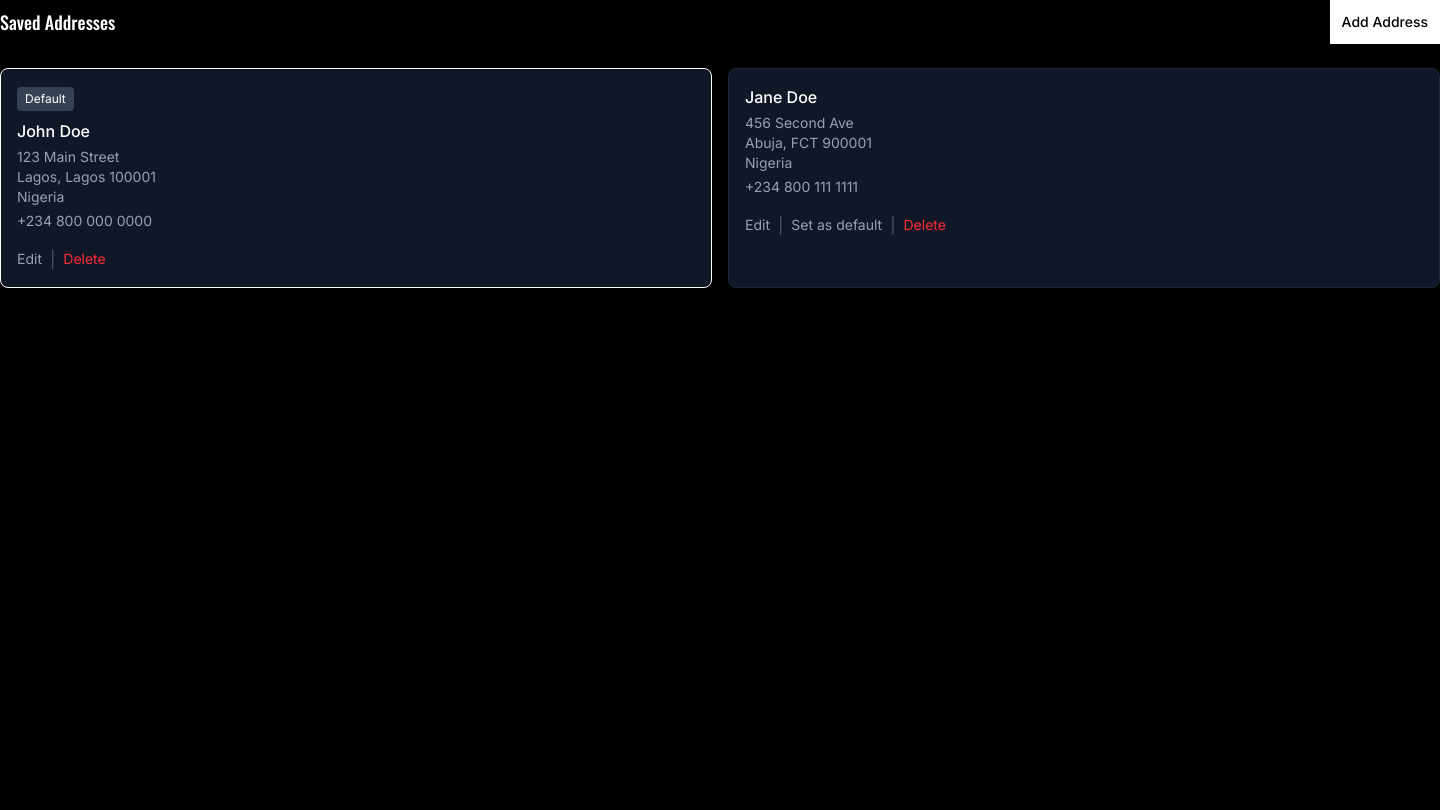
Test: AddressBook › opens edit modal when clicking Edit button
Click the button "Edit" below "+234 800 000 0000".
click(30, 259)  # box [17, 247, 42, 271]
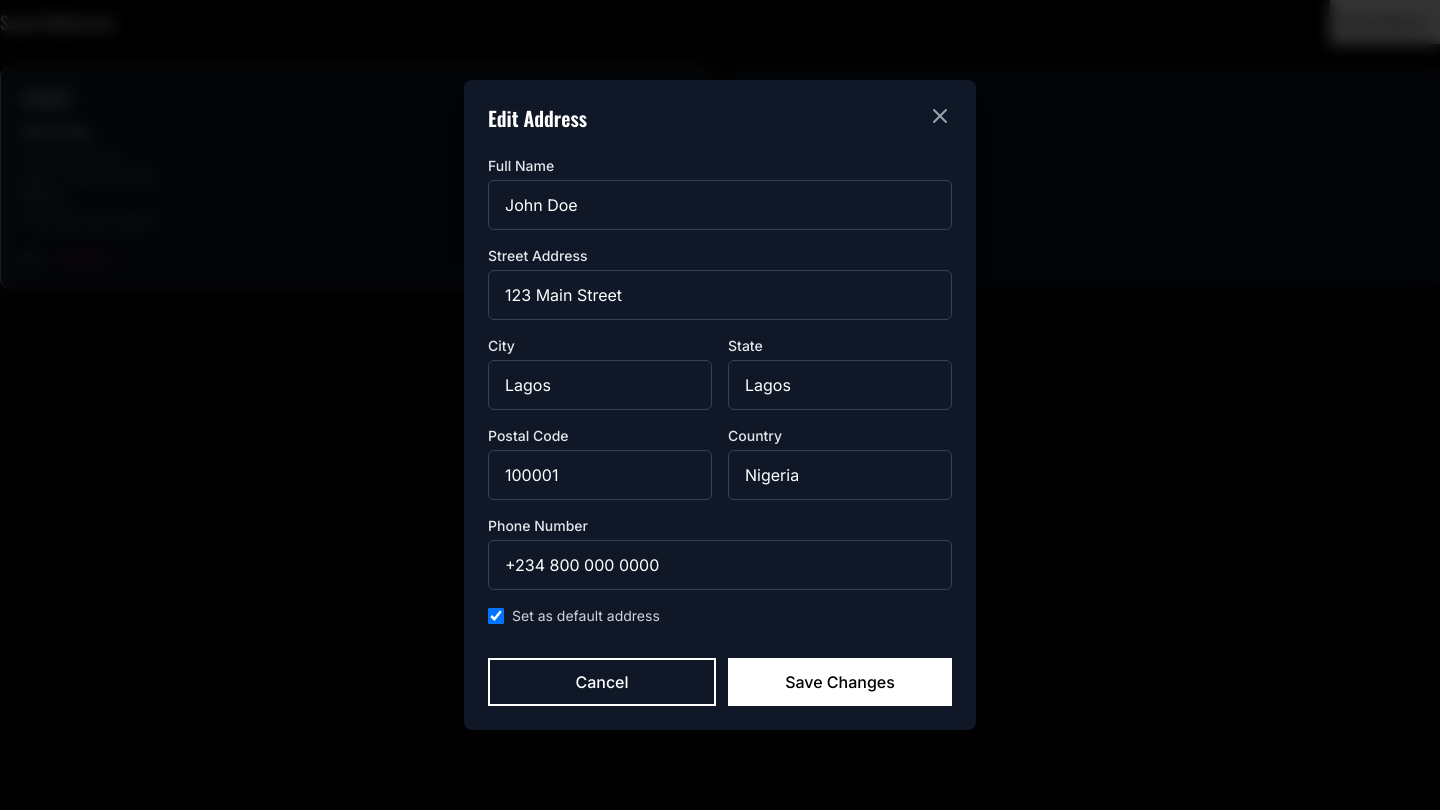
Check: the heading "Edit Address" is shown, box [488, 103, 587, 133]
